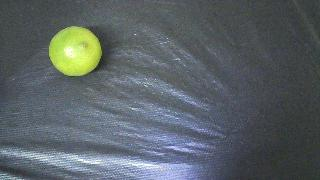LOCAL: (49, 26, 101, 76)
